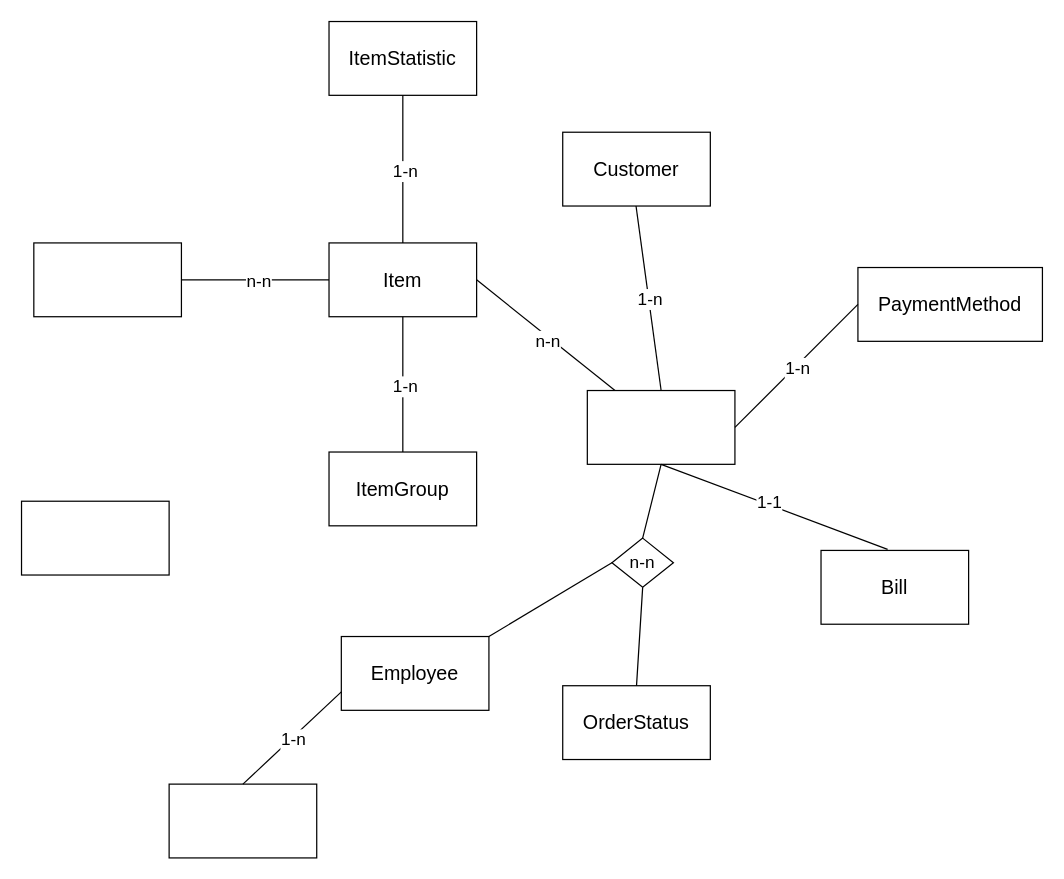
Some shapes in this 1064 by 879 pixel diagram are drawn without their labels. Each missing label, with the box of its shape:
Order: (586, 389, 735, 464)
Revenue: (20, 500, 169, 575)
Size: (33, 242, 181, 317)
Title: (168, 783, 317, 858)
